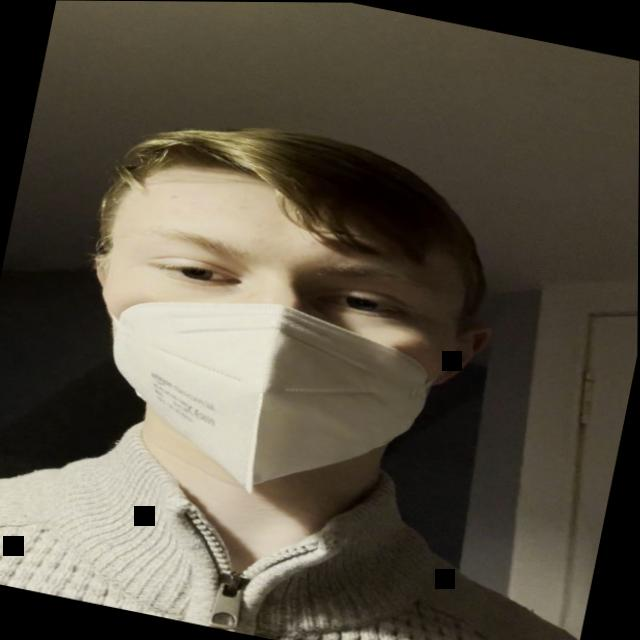Mask: (57, 123, 494, 528)
